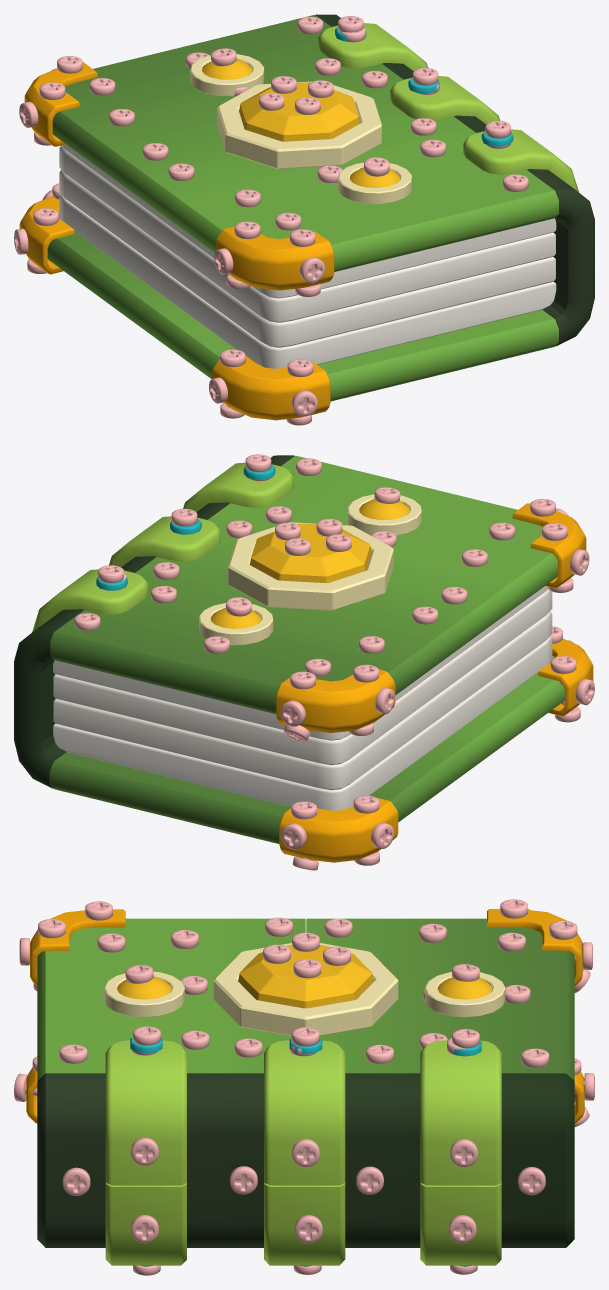
File: lvl_105.fbx
The picture shows the model from 3 angles, top to bottom: view 1: azimuth 30°, elevation 25°; view 2: azimuth 150°, elevation 25°; view 3: azimuth 270°, elevation 25°; orthographic projection. The views are drawn at different scales.
Parts seen in each view (by area): view 1: LV2, LV3, LV1, Screw 161, Screw 167; view 2: LV2, LV3, LV1, Screw 148; view 3: LV2, LV1, Screw 143, Screw 191, Screw 139, Screw 145, Screw 137, Screw 142, Screw 190, Screw 140, Screw 187, Screw 188.
Boxes of the visible parts, x1,y1,x2,y2 form: LV2: [19, 14, 594, 420]; LV3: [59, 144, 556, 368]; LV1: [190, 27, 513, 204]; Screw 161: [291, 390, 317, 416]; Screw 167: [299, 257, 325, 283]; LV2: [14, 455, 593, 862]; LV3: [53, 586, 552, 810]; LV1: [96, 464, 421, 645]; Screw 148: [281, 823, 306, 849]; LV2: [26, 909, 584, 1265]; LV1: [104, 943, 505, 1266]; Screw 143: [448, 1215, 476, 1243]; Screw 191: [62, 1167, 90, 1195]; Screw 139: [292, 1139, 319, 1167]; Screw 145: [450, 1139, 477, 1167]; Screw 137: [295, 1215, 322, 1243]; Screw 142: [131, 1137, 158, 1165]; Screw 190: [230, 1166, 257, 1194]; Screw 140: [131, 1215, 158, 1243]; Screw 187: [356, 1166, 383, 1194]; Screw 188: [518, 1167, 545, 1195].
Size of the model in its own units: 5.64 by 3.3 by 6.89.
